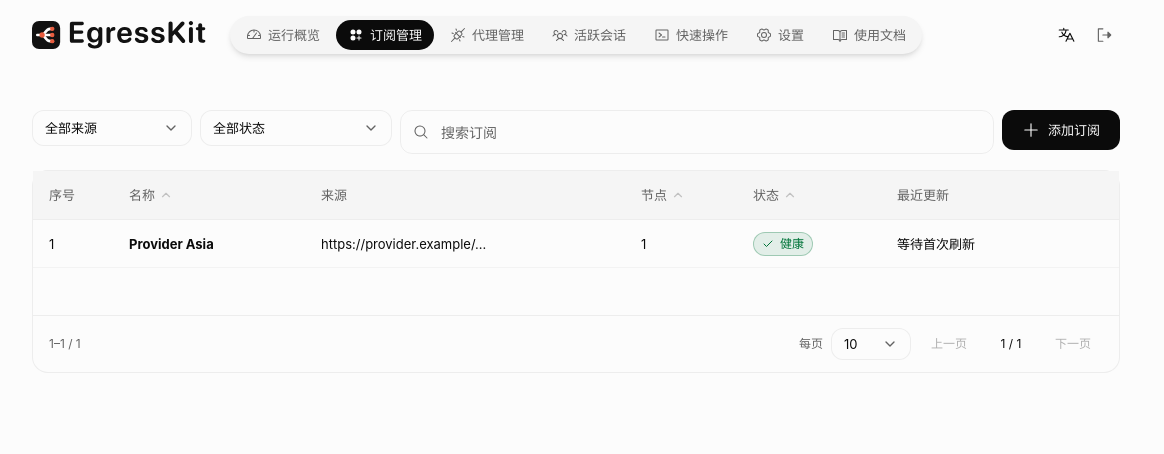
Test: console router › removes redundant collection headings and counts
The width and height of the screenshot is (1164, 454).
Click the button "代理管理".
click(487, 35)  # box left=438, top=20, right=536, bottom=50
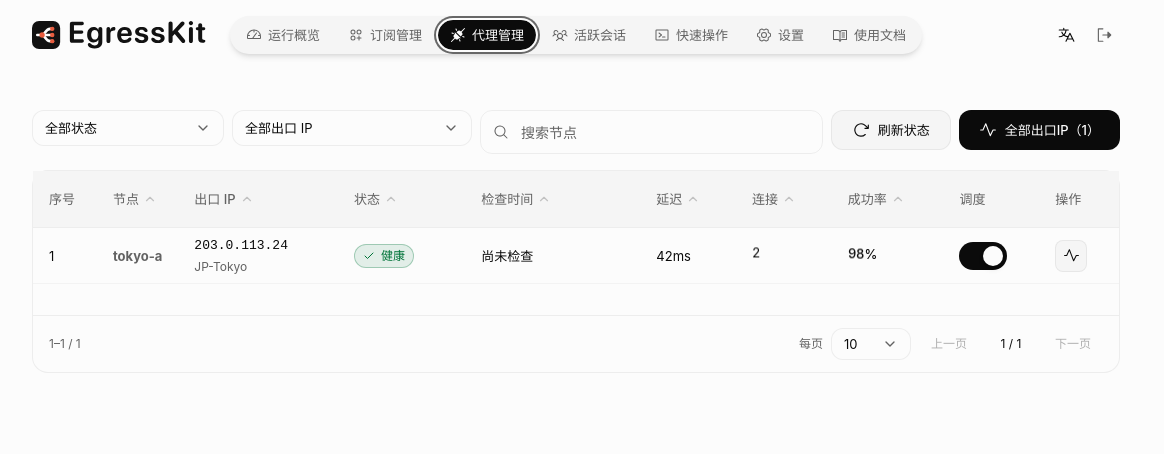
Check: the element named "代理管理面板" is shown
Click the button "活跃会话".
click(589, 35)  # box left=540, top=20, right=638, bottom=50
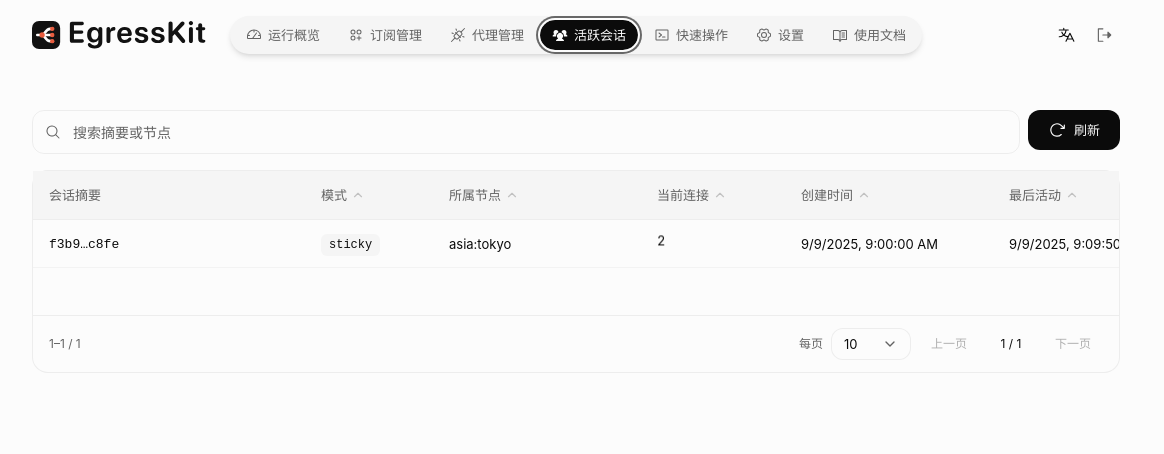
Check: the element named "活跃会话面板" is shown
